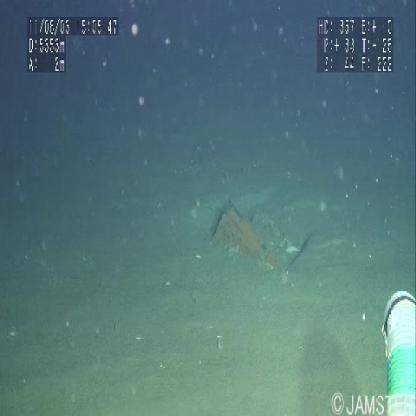Rác: (212, 202, 268, 264)
